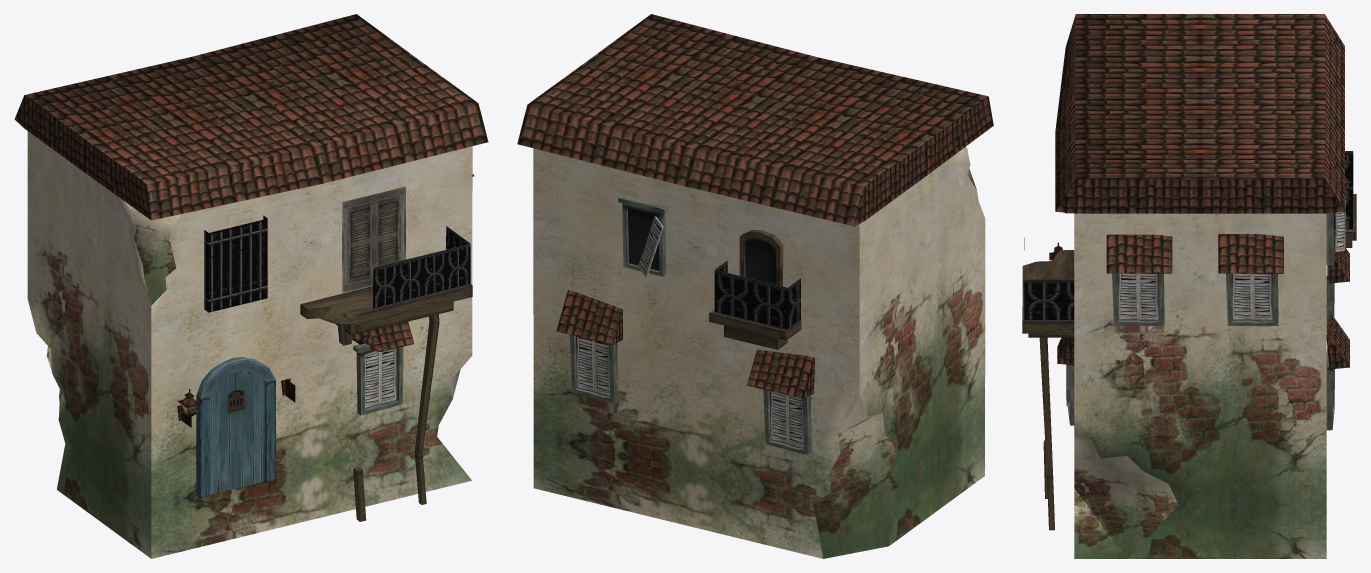
Rendered from pir_m_bld_spn_houseO_destroyed.fbx.
3 views of the same model, side by side, from view 1: azimuth 30°, elevation 25°; view 2: azimuth 150°, elevation 25°; view 3: azimuth 270°, elevation 25° (orthographic). The views are drawn at different scales.
Visible parts, largest first — view 1: polySurface334, roof, door_right, door2, pPlane30, balcony_railing1, door_frame, balcony_upper2, win_rect_closed_012, Column6, windows_roof5, pasted__balcony_low3 (+2 smaller); view 2: polySurface334, roof, polySurface342, win_rect_closed_021, win_rect_closed_022, windows_roof4, windows_roof3, Window2, windowframe16, windowframe15, balcony_upper1, balcony_low1 (+1 smaller); view 3: polySurface334, roof, win_rect_closed_019, win_rect_closed_020, windows_roof, windows_roof1, balcony_railing1, balcony_upper2, Column6, windows_roof3, windows_roof4, win_rect_closed_021 (+5 smaller).
Boxes of the visible parts, left/top/right/bottom form: polySurface334: left=27, top=131, right=472, bottom=558; roof: left=14, top=14, right=488, bottom=220; door_right: left=209, top=371, right=265, bottom=494; door2: left=342, top=186, right=405, bottom=292; pPlane30: left=204, top=215, right=267, bottom=312; balcony_railing1: left=373, top=226, right=470, bottom=309; door_frame: left=196, top=357, right=275, bottom=498; balcony_upper2: left=300, top=284, right=472, bottom=324; win_rect_closed_012: left=353, top=343, right=403, bottom=415; Column6: left=414, top=314, right=439, bottom=504; windows_roof5: left=351, top=321, right=414, bottom=351; pasted__balcony_low3: left=335, top=301, right=453, bottom=335; polySurface334: left=533, top=147, right=985, bottom=558; roof: left=517, top=14, right=993, bottom=226; polySurface342: left=714, top=262, right=800, bottom=330; win_rect_closed_021: left=569, top=335, right=617, bottom=402; win_rect_closed_022: left=763, top=389, right=811, bottom=454; windows_roof4: left=747, top=349, right=814, bottom=398; windows_roof3: left=556, top=290, right=622, bottom=345; Window2: left=739, top=230, right=783, bottom=286; windowframe16: left=618, top=194, right=668, bottom=276; windowframe15: left=628, top=208, right=659, bottom=270; balcony_upper1: left=709, top=309, right=801, bottom=340; balcony_low1: left=724, top=325, right=787, bottom=349; polySurface334: left=1074, top=213, right=1326, bottom=558; roof: left=1055, top=14, right=1344, bottom=213; win_rect_closed_019: left=1112, top=273, right=1164, bottom=325; win_rect_closed_020: left=1226, top=273, right=1278, bottom=326; windows_roof: left=1106, top=234, right=1172, bottom=273; windows_roof1: left=1218, top=234, right=1283, bottom=273; balcony_railing1: left=1024, top=237, right=1074, bottom=321; balcony_upper2: left=1022, top=250, right=1073, bottom=333; Column6: left=1039, top=337, right=1054, bottom=530; windows_roof3: left=1326, top=311, right=1349, bottom=369; windows_roof4: left=1329, top=248, right=1349, bottom=283; win_rect_closed_021: left=1326, top=348, right=1334, bottom=430.
Bounding box in the file's own units: 3439 × 3586 × 2835.
Materials: 2 (2 with a texture image).
